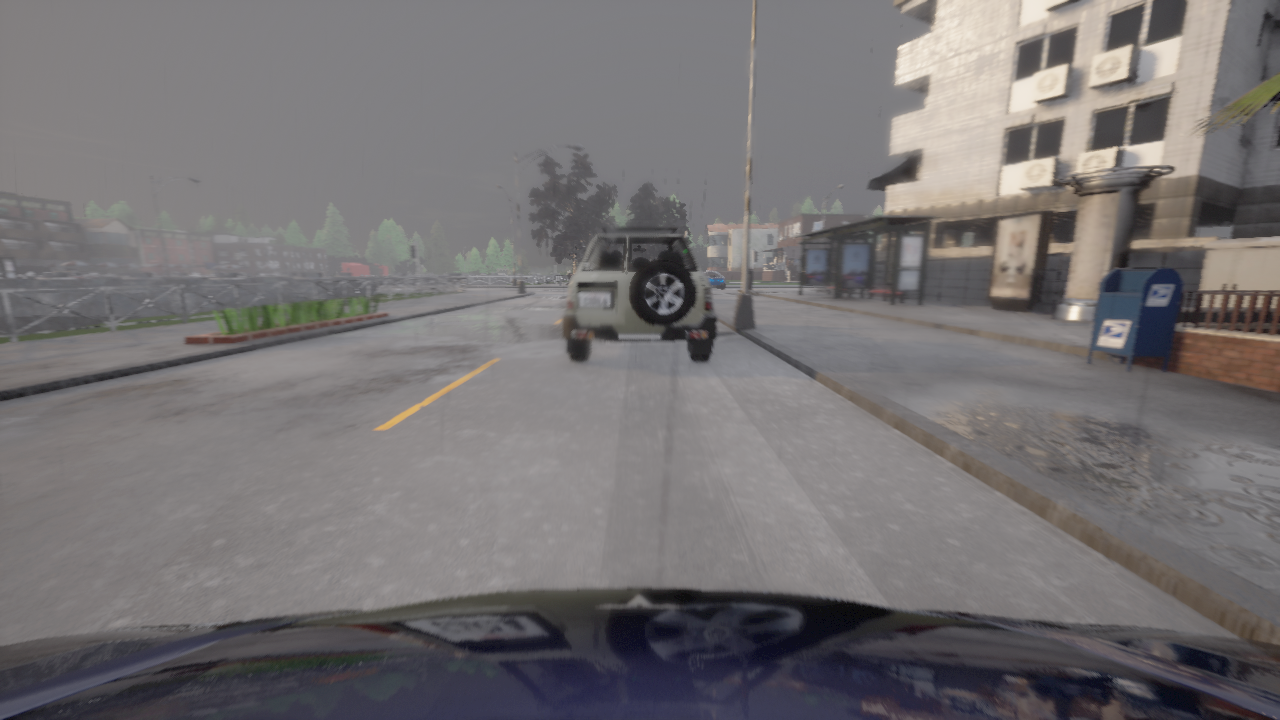cyclist: (0, 588, 1279, 719), (562, 227, 717, 362), (34, 270, 98, 278), (704, 271, 725, 288)
